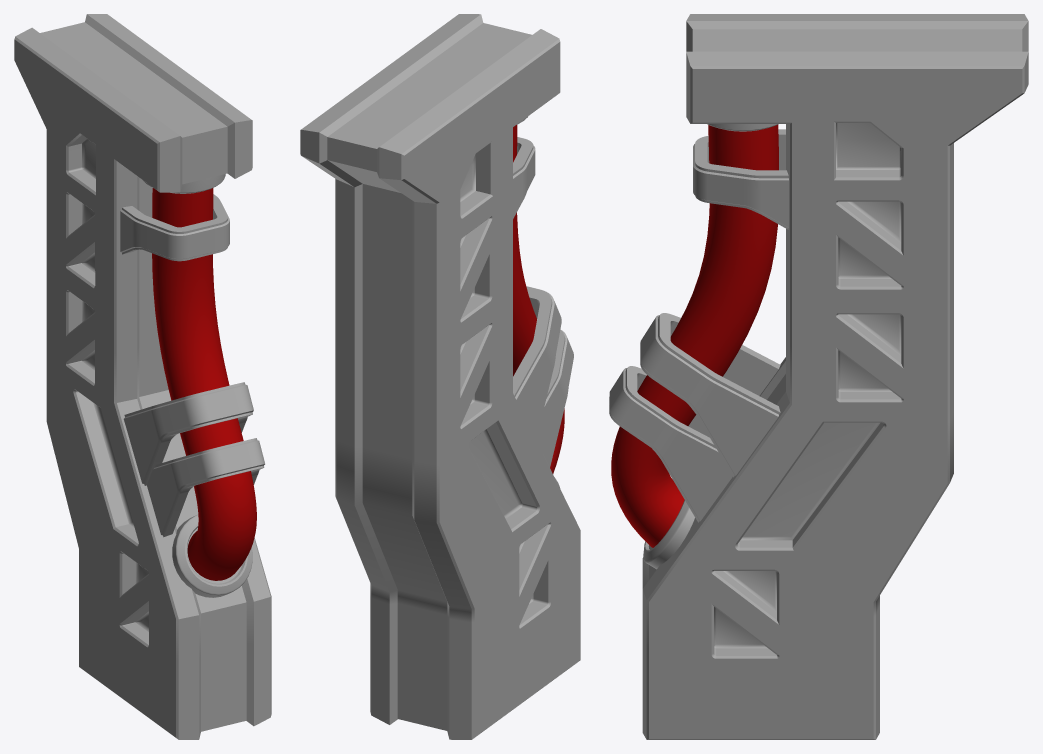
File: SM_Pillar_Tech_v1.fbx
3 views of the same model, side by side, from view 1: azimuth 30°, elevation 25°; view 2: azimuth 150°, elevation 25°; view 3: azimuth 270°, elevation 25° (orthographic). The views are drawn at different scales.
Visible parts, largest first — view 1: SM_Pillar_Tech_v99; view 2: SM_Pillar_Tech_v99; view 3: SM_Pillar_Tech_v99.
Boxes of the visible parts, left/top/right/bottom form: SM_Pillar_Tech_v99: left=14, top=14, right=271, bottom=739; SM_Pillar_Tech_v99: left=300, top=14, right=580, bottom=739; SM_Pillar_Tech_v99: left=609, top=14, right=1028, bottom=739.
Size of what is drawn, in the model's own units: 102 by 604 by 337.
